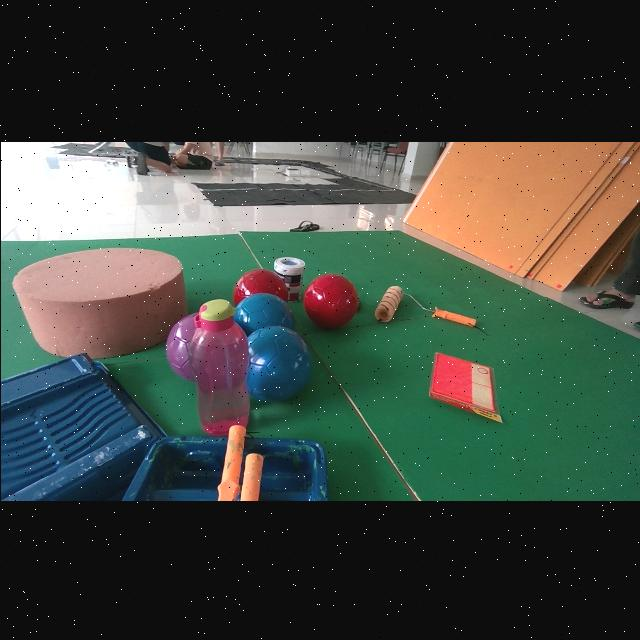B: (246, 324, 311, 400), (233, 291, 294, 333)
P: (165, 311, 196, 378)
R: (302, 272, 359, 327), (232, 267, 287, 304)
